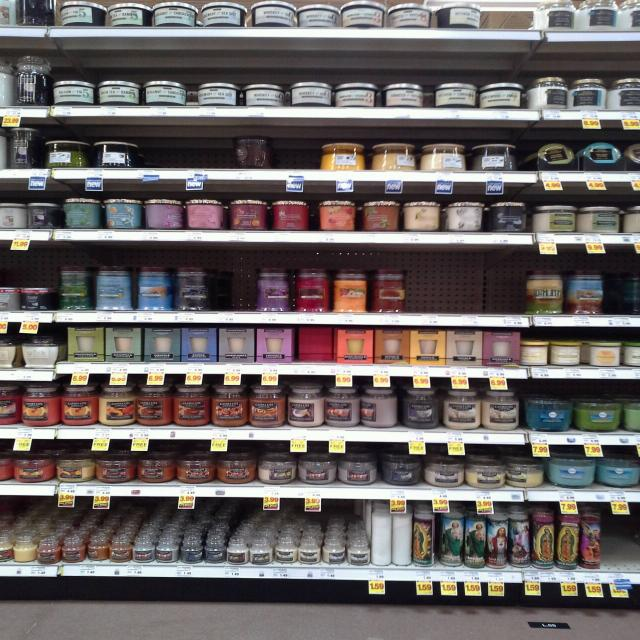void: (414, 248, 516, 314), (147, 122, 232, 173), (214, 248, 250, 314), (280, 117, 319, 169), (608, 505, 639, 570)
